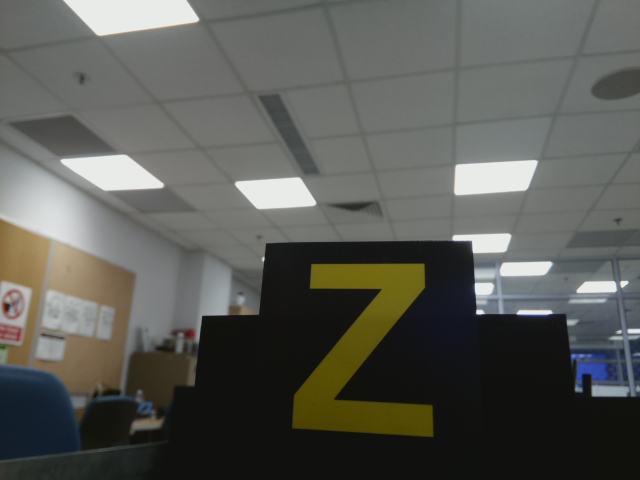z: (282, 253, 441, 452)
